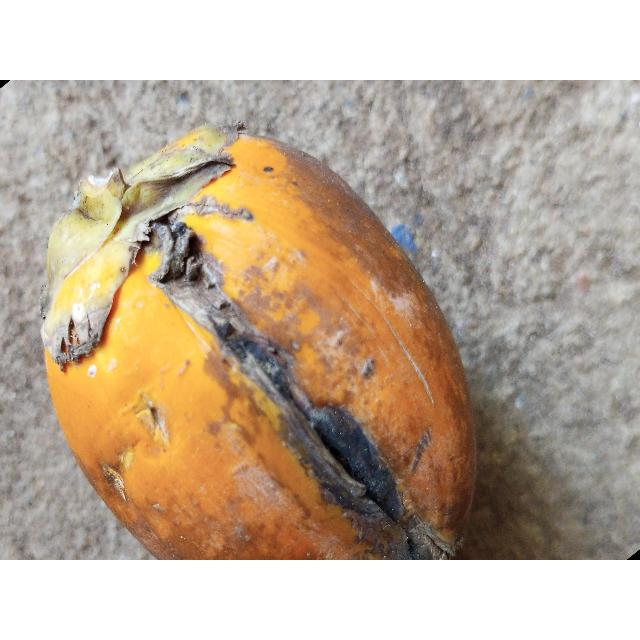damaged: (40, 127, 478, 560)
